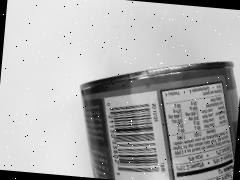metal: (52, 33, 240, 180)
